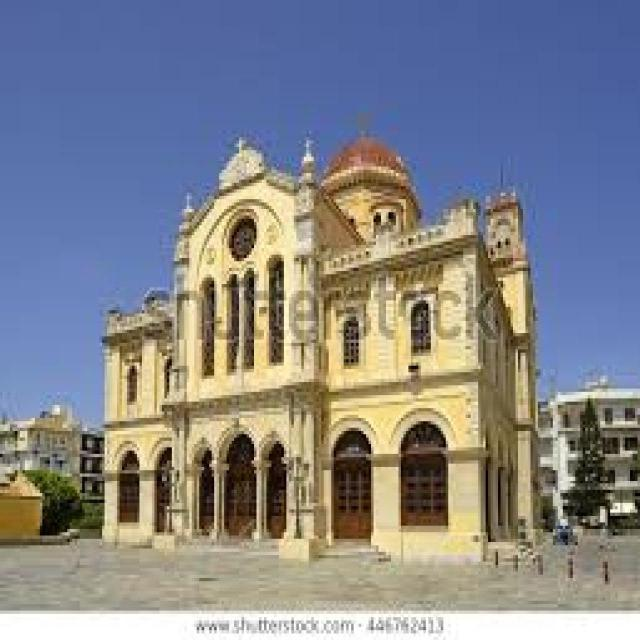Agios Minas: (104, 125, 543, 568)
